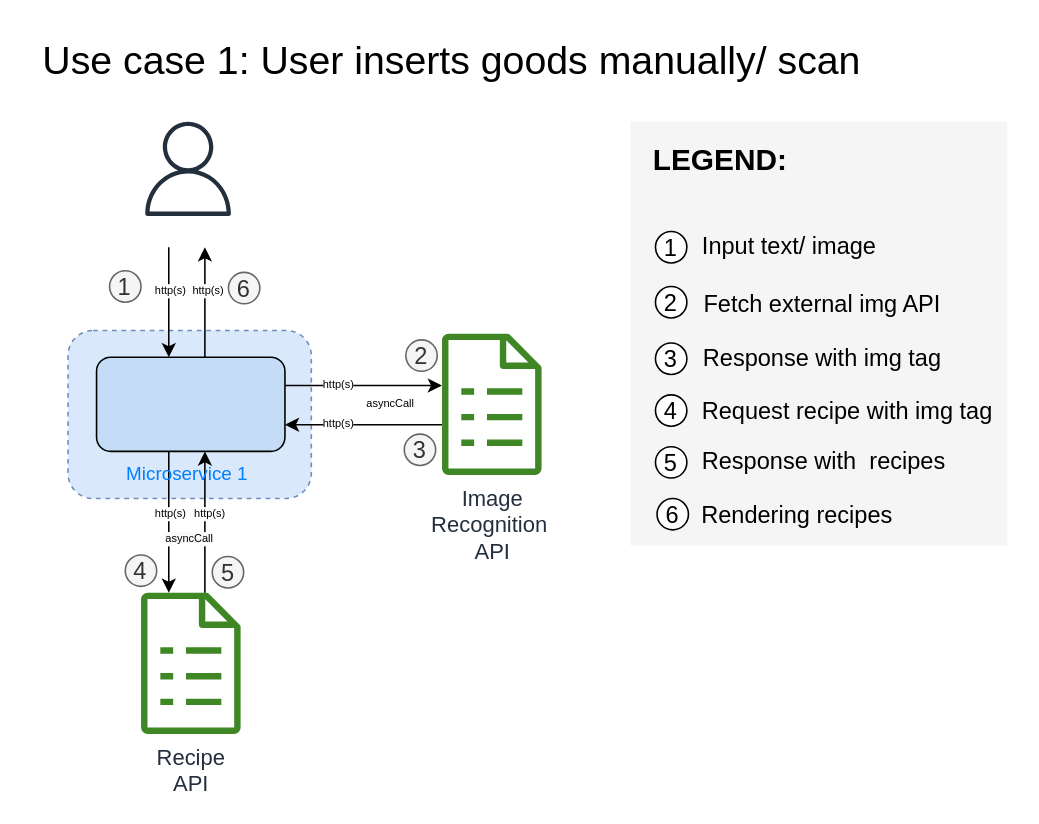
Some shapes in this 1039 by 824 pixel diagram are drawn without their labels. The centre of each missing label's shape, as x and y in pixels:
Frontend: the point at 190,403
User: the point at 187,168
